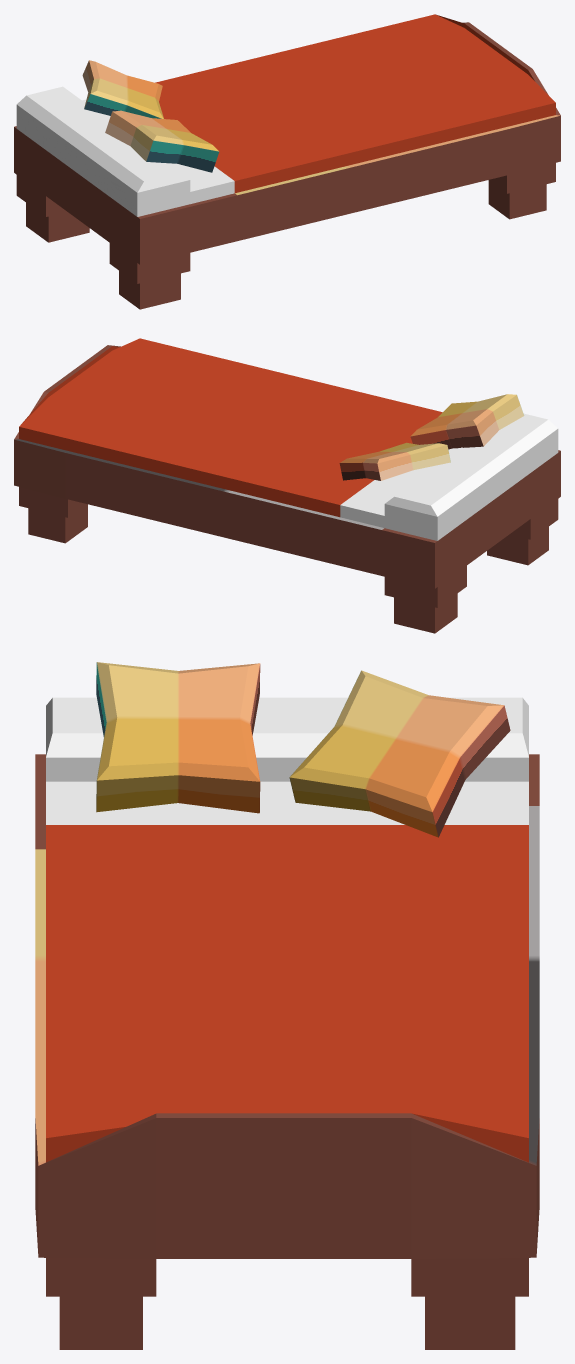
The model's file is cama_1.fbx.
3 views of the same model, one above another, from view 1: azimuth 30°, elevation 25°; view 2: azimuth 150°, elevation 25°; view 3: azimuth 270°, elevation 25° (orthographic). The views are drawn at different scales.
Visible parts, largest first — view 1: Cube.001; view 2: Cube.001; view 3: Cube.001.
Part boxes in pixels (x1=…): Cube.001: x1=14, y1=14, x2=560, y2=309; Cube.001: x1=14, y1=338, x2=560, y2=633; Cube.001: x1=35, y1=662, x2=539, y2=1349.
Size of the model in its own units: 362 by 129 by 187.
